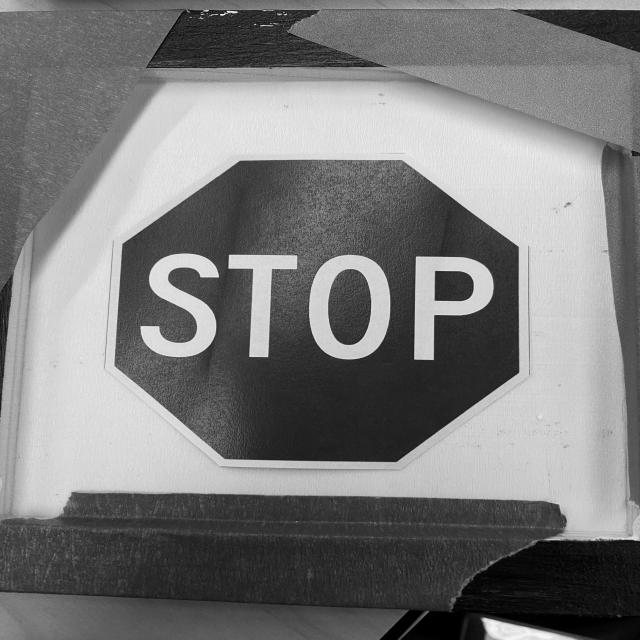stop: (98, 148, 532, 471)
